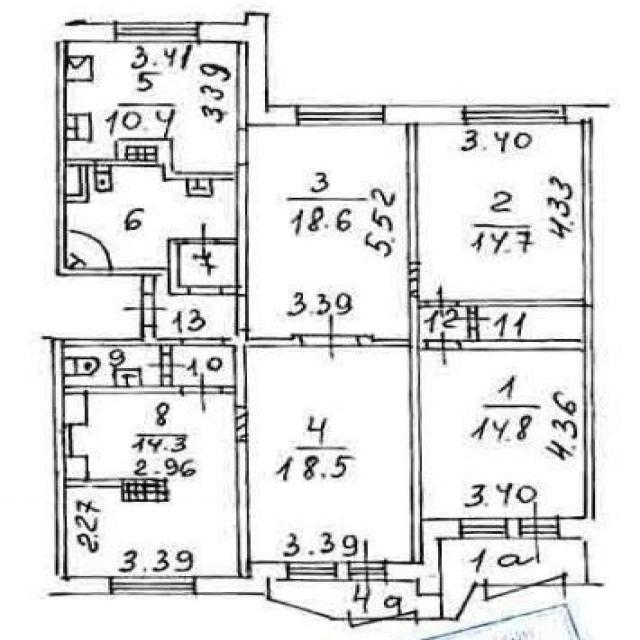Bathrooms: (69, 167, 234, 266), (64, 348, 159, 384)
Corridors: (157, 276, 235, 336), (481, 308, 582, 339), (174, 347, 232, 383), (182, 246, 234, 285), (422, 308, 467, 338)
Doors: (301, 313, 359, 363), (521, 500, 559, 564), (349, 538, 386, 597), (182, 371, 222, 414), (121, 294, 169, 326), (182, 220, 220, 259), (425, 329, 461, 366), (426, 283, 459, 318), (145, 354, 189, 377), (454, 312, 492, 328), (236, 128, 248, 166), (236, 295, 248, 331), (181, 338, 224, 346), (189, 285, 222, 295)
LBwalls: (200, 12, 295, 127), (385, 516, 459, 596), (197, 561, 286, 596), (383, 105, 463, 125), (46, 575, 109, 595), (56, 21, 112, 42), (567, 104, 612, 124), (558, 517, 596, 538), (507, 518, 522, 538), (335, 562, 349, 581)
Offices: (248, 349, 410, 561), (250, 126, 408, 337), (67, 395, 236, 575), (421, 126, 582, 296), (421, 352, 582, 517), (69, 44, 236, 171)
Walls: (459, 123, 595, 518), (55, 41, 190, 295), (51, 327, 181, 576), (358, 125, 426, 562), (68, 138, 249, 295), (221, 331, 300, 578), (236, 44, 248, 128), (160, 377, 172, 385)
Windows: (462, 105, 567, 126), (113, 21, 201, 43), (296, 105, 384, 126), (108, 575, 196, 596), (286, 561, 337, 582), (459, 518, 506, 539)
